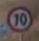limite 70: (6, 5, 32, 31)
